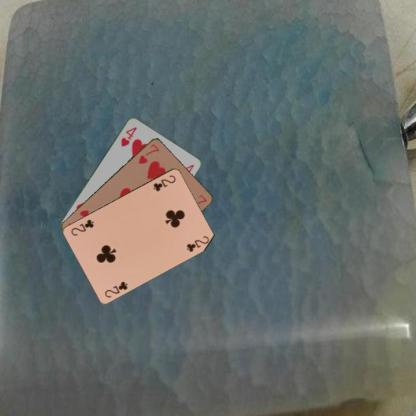2c: (102, 278, 129, 299), (151, 172, 177, 192)
4h: (119, 124, 138, 148)
7h: (136, 141, 160, 165)
